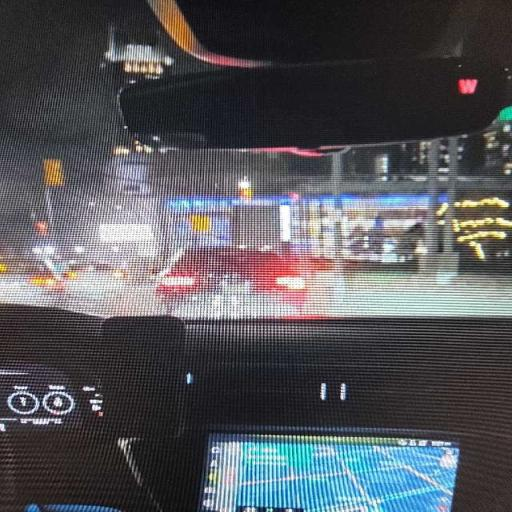car: (0, 0, 511, 511), (156, 248, 332, 313)
lane: (0, 275, 511, 319)
